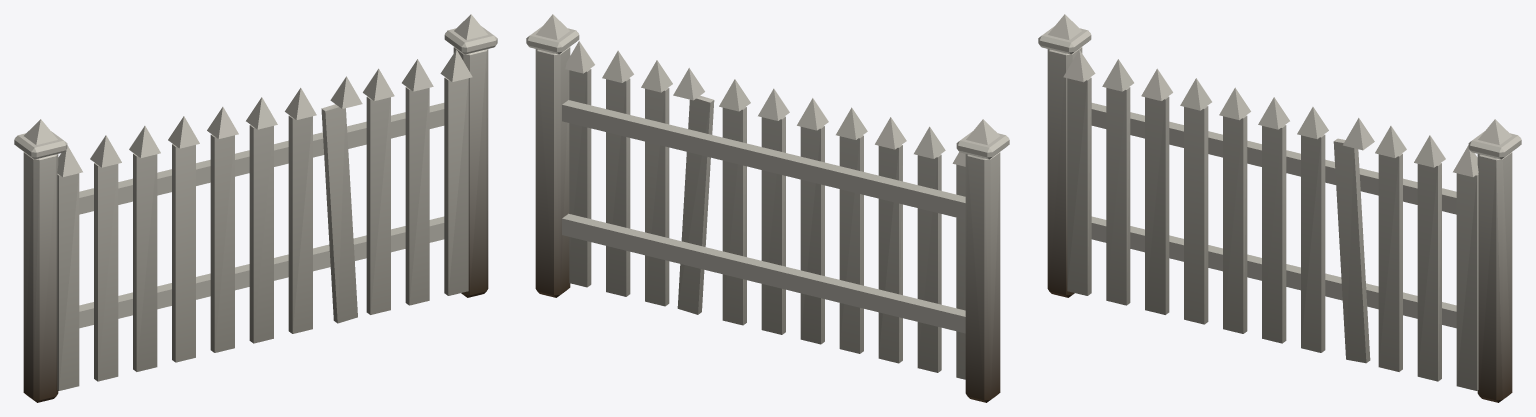
File: picket-fence.glb
3 views of the same model, side by side, from view 1: azimuth 30°, elevation 25°; view 2: azimuth 150°, elevation 25°; view 3: azimuth 330°, elevation 25° (orthographic).
Visible parts, largest first — view 1: picket_fence; view 2: picket_fence; view 3: picket_fence.
Boxes of the visible parts, x1,y1,x2,y2 form: picket_fence: (14,14,497,402); picket_fence: (526,14,1009,402); picket_fence: (1038,14,1521,402).
Size of the model in its own units: 2.06 by 1.18 by 0.1703.
